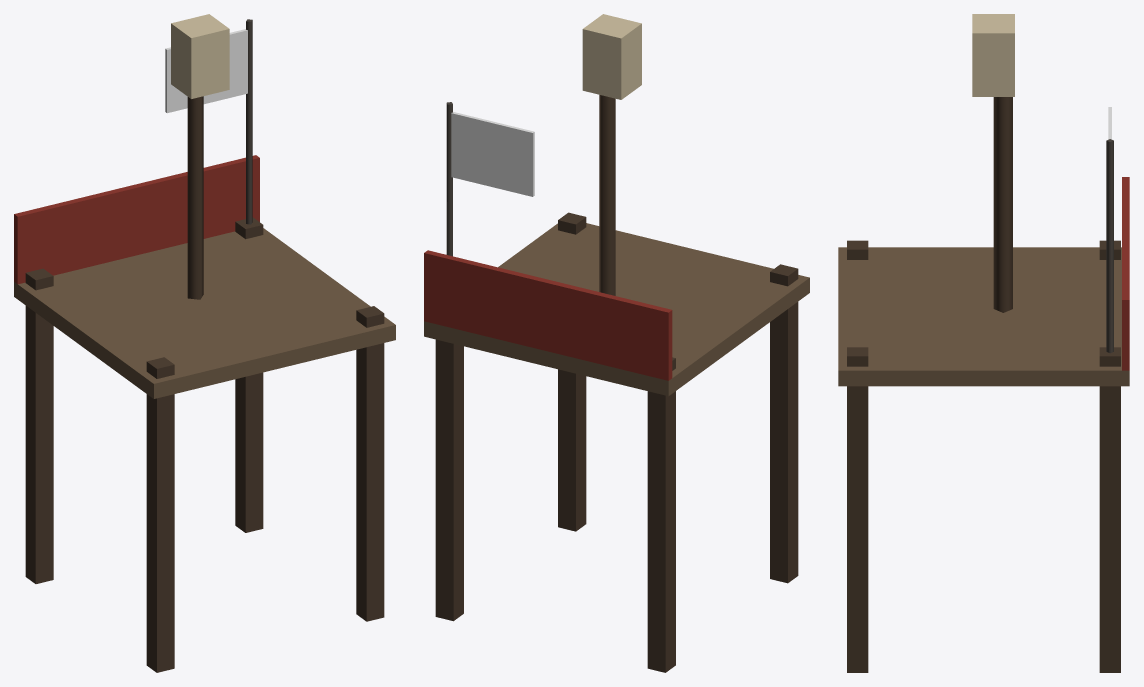
The picture shows the model from 3 angles, left to right: view 1: azimuth 30°, elevation 25°; view 2: azimuth 150°, elevation 25°; view 3: azimuth 270°, elevation 25°; orthographic projection. The views are drawn at different scales.
Visible parts, largest first — view 1: raider_building_claim_post; view 2: raider_building_claim_post; view 3: raider_building_claim_post.
Boxes of the visible parts, box(x1,y1,x2,y2) form: raider_building_claim_post: box(14, 14, 395, 672); raider_building_claim_post: box(424, 14, 809, 672); raider_building_claim_post: box(838, 14, 1129, 672).
Size of the model in its own units: 3 by 6.72 by 3.
